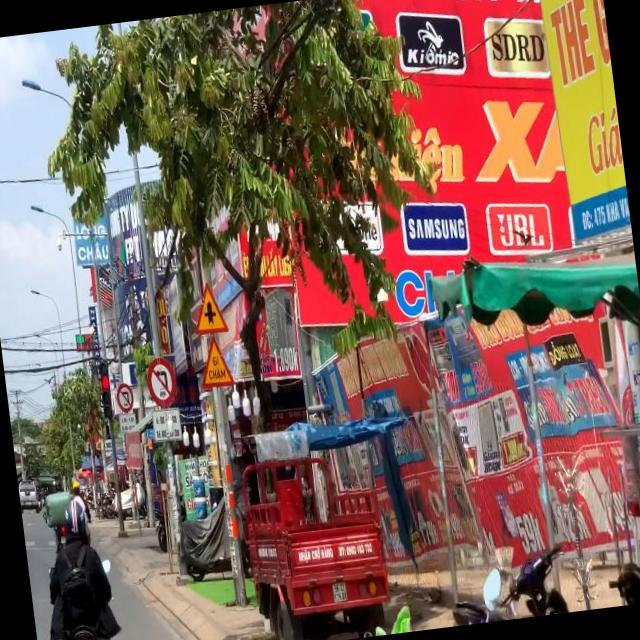W-207a: (187, 279, 227, 337)
W-245a: (196, 334, 233, 389)
